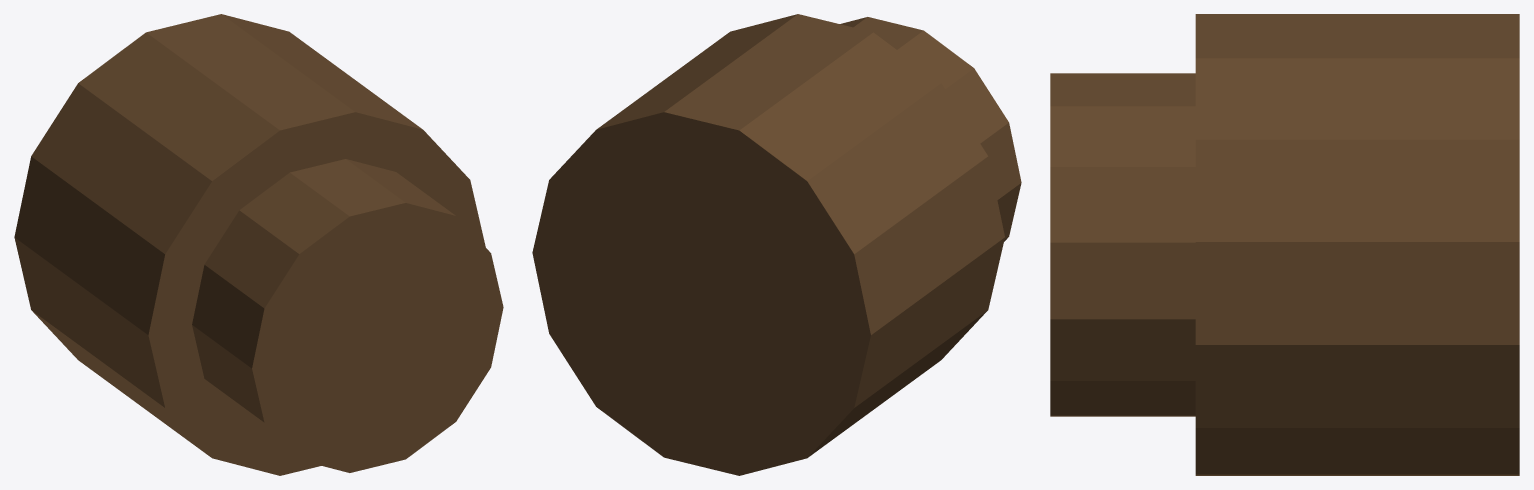
The model's file is SM_ShHaystack.obj.
3 renders of one model, left to right at view 1: azimuth 30°, elevation 25°; view 2: azimuth 150°, elevation 25°; view 3: azimuth 270°, elevation 25°, orthographic. The views are drawn at different scales.
Bounding box in the file's own units: 140 × 136 × 139.
